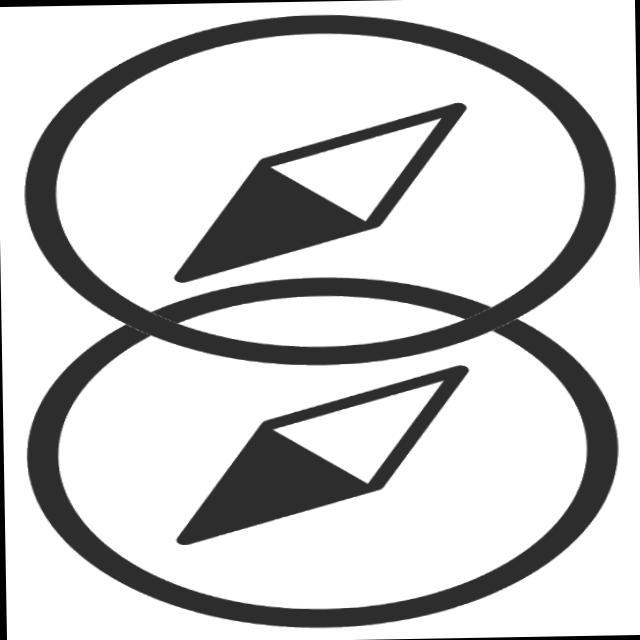compass: (15, 261, 635, 640), (14, 3, 629, 377)
